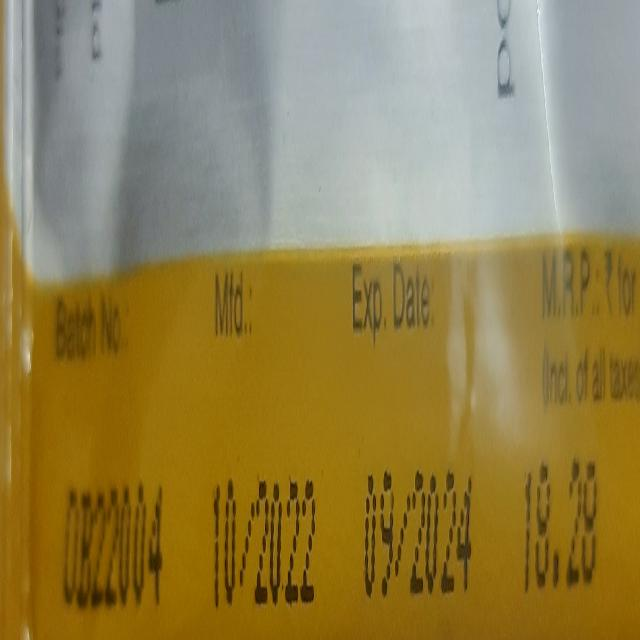sentence: (61, 443, 600, 631)
